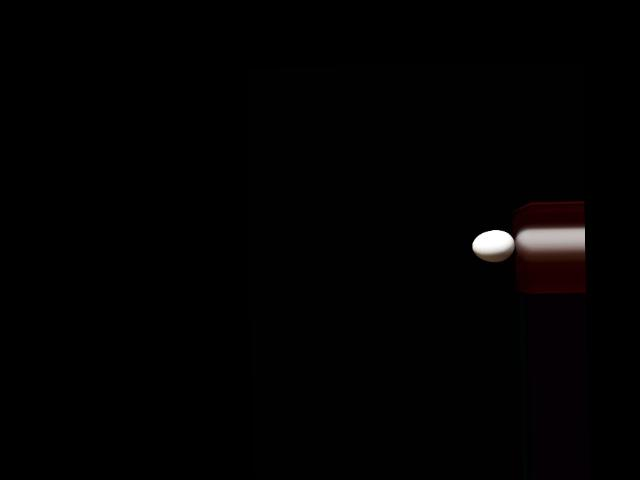egg: (472, 229, 515, 261)
